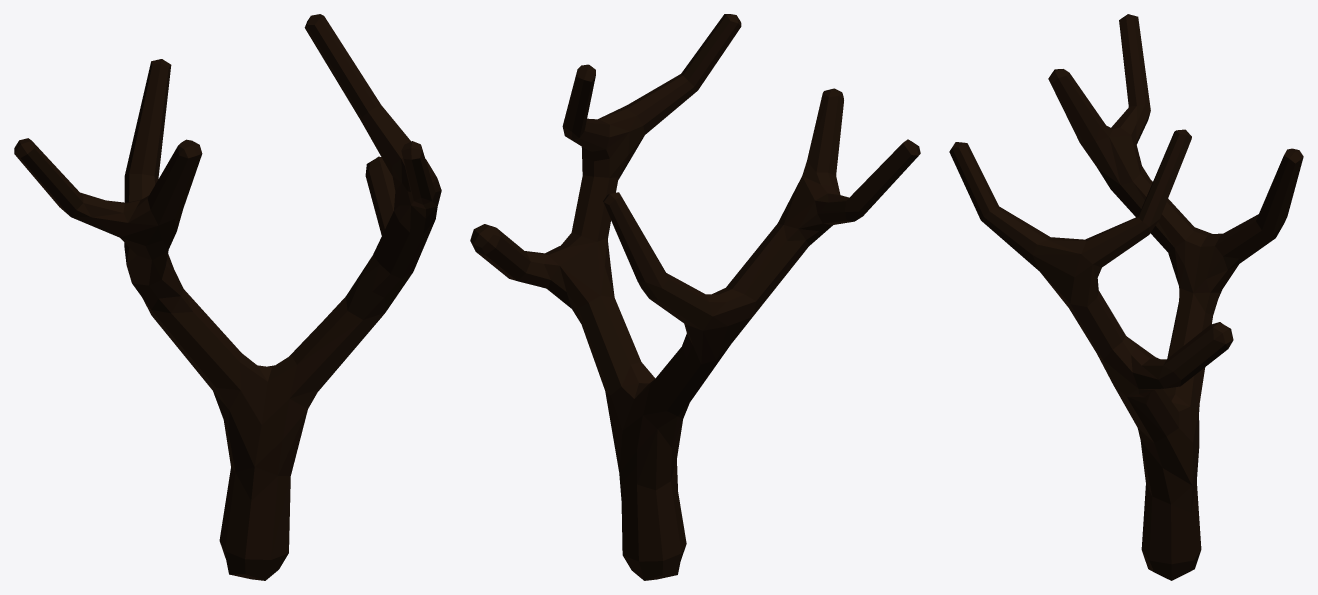
Rendered from BurnedTree2.obj.
3 renders of one model, left to right at view 1: azimuth 30°, elevation 25°; view 2: azimuth 150°, elevation 25°; view 3: azimuth 270°, elevation 25°, orthographic. The views are drawn at different scales.
Visible parts, largest first — view 1: deadtree2_Cube_Cube.001; view 2: deadtree2_Cube_Cube.001; view 3: deadtree2_Cube_Cube.001.
Part boxes in pixels (x1,y1,x2,y2): deadtree2_Cube_Cube.001: (14, 14, 441, 580); deadtree2_Cube_Cube.001: (470, 14, 920, 580); deadtree2_Cube_Cube.001: (949, 14, 1303, 580).
Size of the model in its own units: 3.44 by 4.12 by 2.78.
